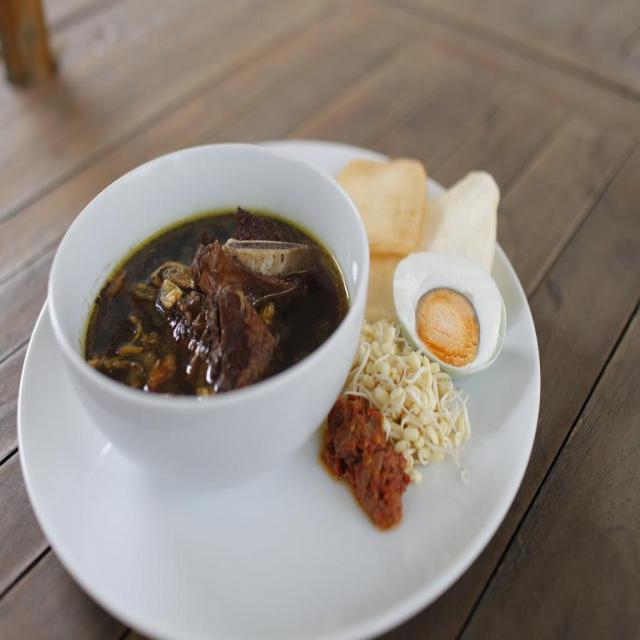Rawon: (82, 194, 340, 396)
